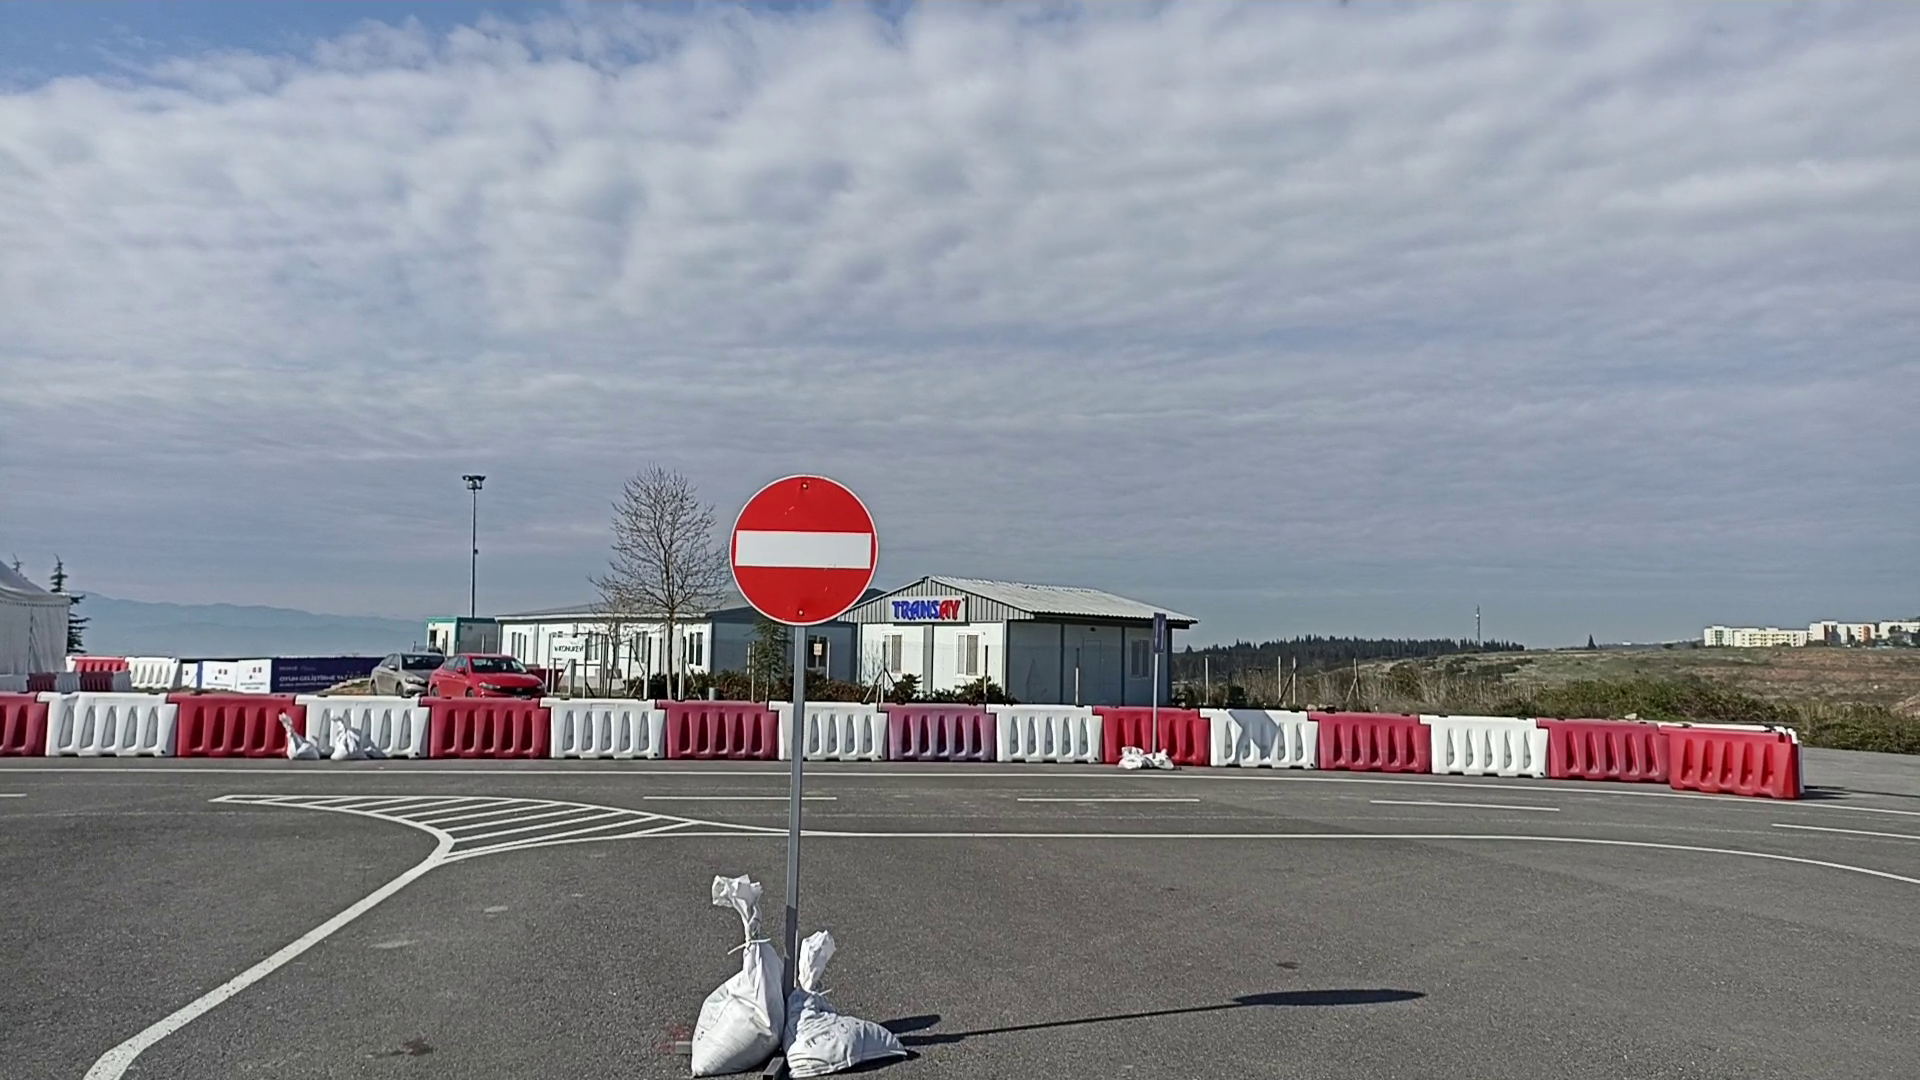noentryway: (724, 469, 882, 628)
